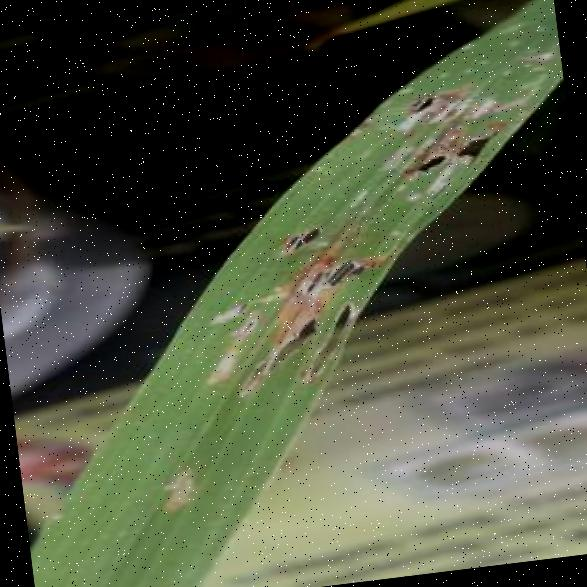Leaf_smut: (293, 296, 392, 386), (263, 199, 337, 271), (444, 118, 512, 191), (148, 466, 217, 530), (205, 284, 269, 340), (392, 130, 454, 182), (404, 76, 465, 124)
